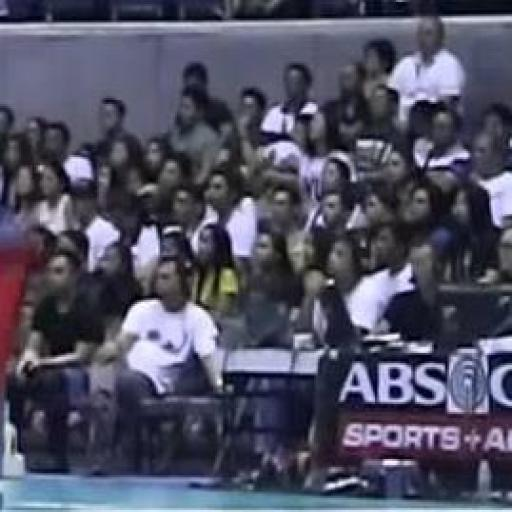person: (111, 260, 222, 467), (10, 251, 102, 471), (389, 17, 464, 122), (242, 229, 302, 346), (379, 243, 443, 340), (326, 235, 380, 332), (168, 88, 220, 185), (448, 182, 498, 281), (206, 168, 256, 263), (94, 243, 142, 338), (368, 223, 414, 322), (415, 105, 470, 187), (261, 64, 317, 144), (356, 86, 403, 181), (193, 225, 241, 318), (73, 182, 119, 271), (183, 62, 234, 140), (324, 64, 367, 150), (402, 180, 451, 254), (473, 133, 511, 228), (294, 113, 329, 206), (267, 186, 304, 273), (94, 98, 140, 165), (44, 123, 95, 183), (172, 184, 216, 252), (37, 160, 72, 234), (0, 133, 32, 203), (237, 88, 266, 165), (364, 39, 395, 99), (10, 166, 39, 228), (482, 102, 511, 163), (143, 137, 169, 181), (25, 117, 47, 161), (0, 105, 15, 155)
